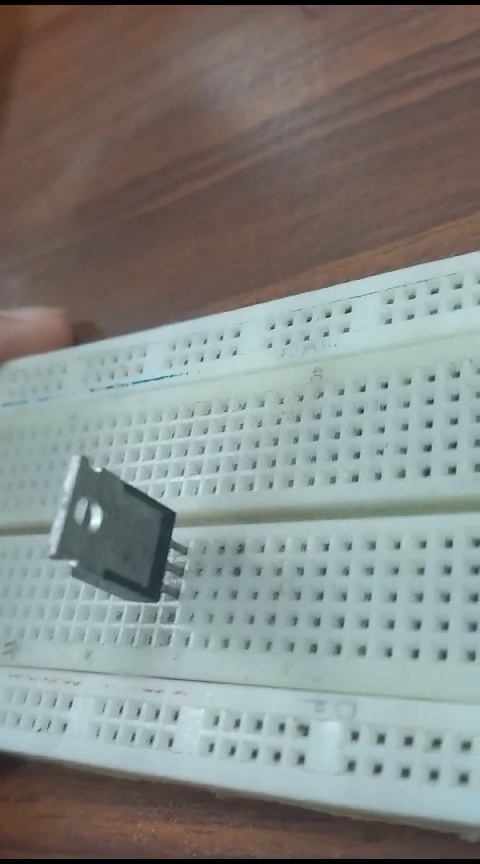voltage regulator: (36, 448, 184, 617)
